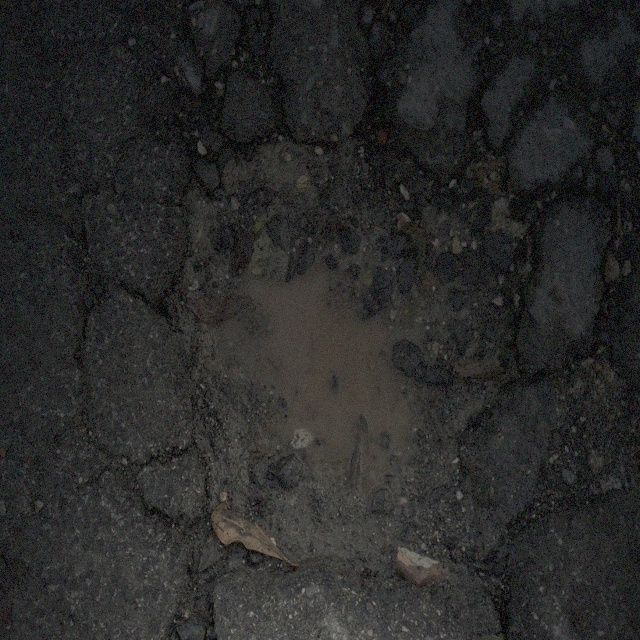pothole: (177, 108, 535, 520)
